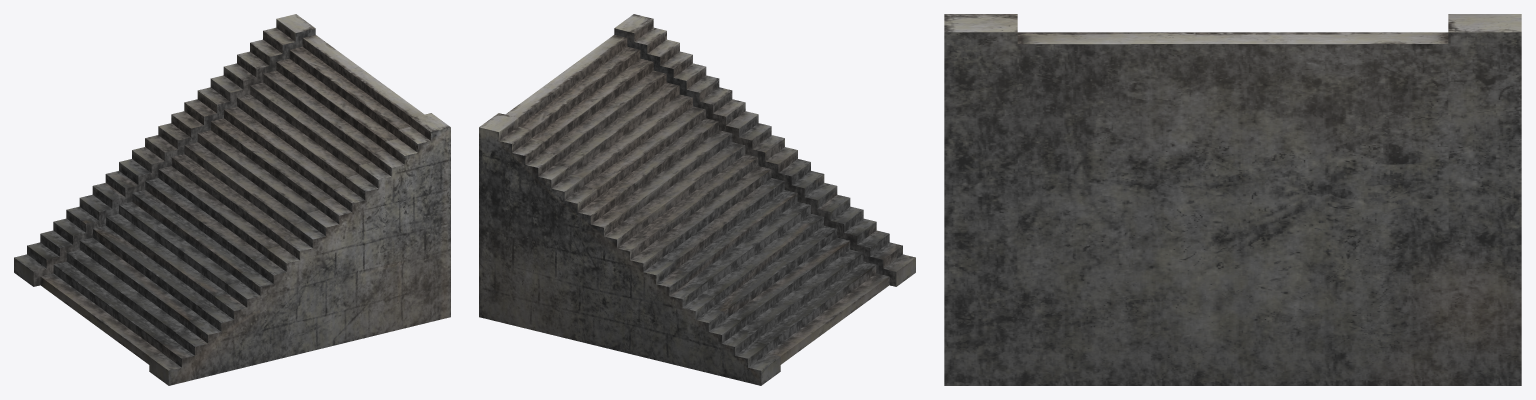
The model's file is stair.fbx.
The picture shows the model from 3 angles, left to right: view 1: azimuth 30°, elevation 25°; view 2: azimuth 150°, elevation 25°; view 3: azimuth 270°, elevation 25°; orthographic projection. The views are drawn at different scales.
Visible parts, largest first — view 1: stair_low; view 2: stair_low; view 3: stair_low.
Part boxes in pixels (x1,y1,x2,y2): stair_low: (14, 14, 450, 385); stair_low: (479, 14, 915, 385); stair_low: (944, 14, 1521, 385).
Size of the model in its own units: 8.05 by 5.17 by 7.65.
